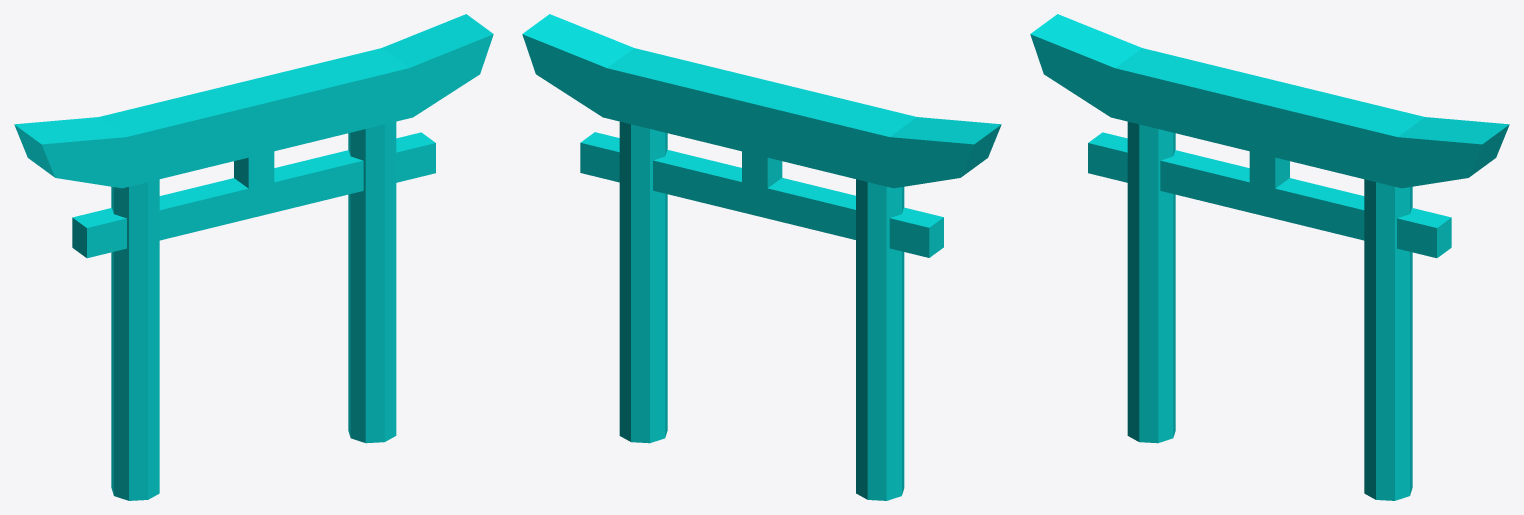
File: SM_Prop_Torii_Gate_03_Collision.fbx
3 views of the same model, side by side, from view 1: azimuth 30°, elevation 25°; view 2: azimuth 150°, elevation 25°; view 3: azimuth 330°, elevation 25° (orthographic).
Parts seen in each view (by area): view 1: SM_Prop_Torii_Gate_03_Collision; view 2: SM_Prop_Torii_Gate_03_Collision; view 3: SM_Prop_Torii_Gate_03_Collision.
Boxes of the visible parts, <box> form: SM_Prop_Torii_Gate_03_Collision: <box>14,14,493,500</box>; SM_Prop_Torii_Gate_03_Collision: <box>522,14,1001,500</box>; SM_Prop_Torii_Gate_03_Collision: <box>1030,14,1509,500</box>.
Size of the model in its own units: 627 by 507 by 66.01.
